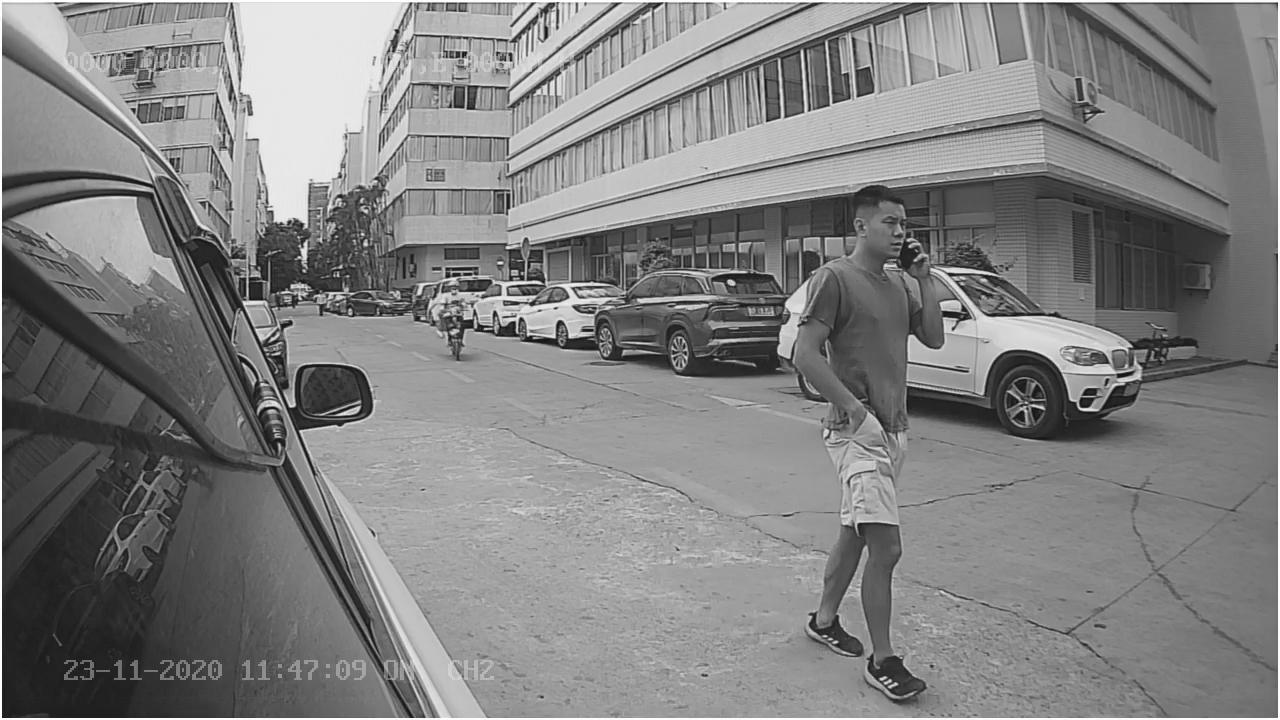person: (780, 177, 960, 710)
